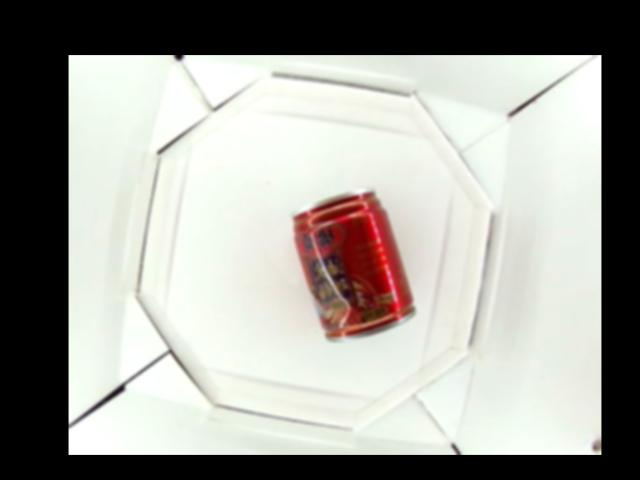Bottle: (288, 186, 419, 343)
